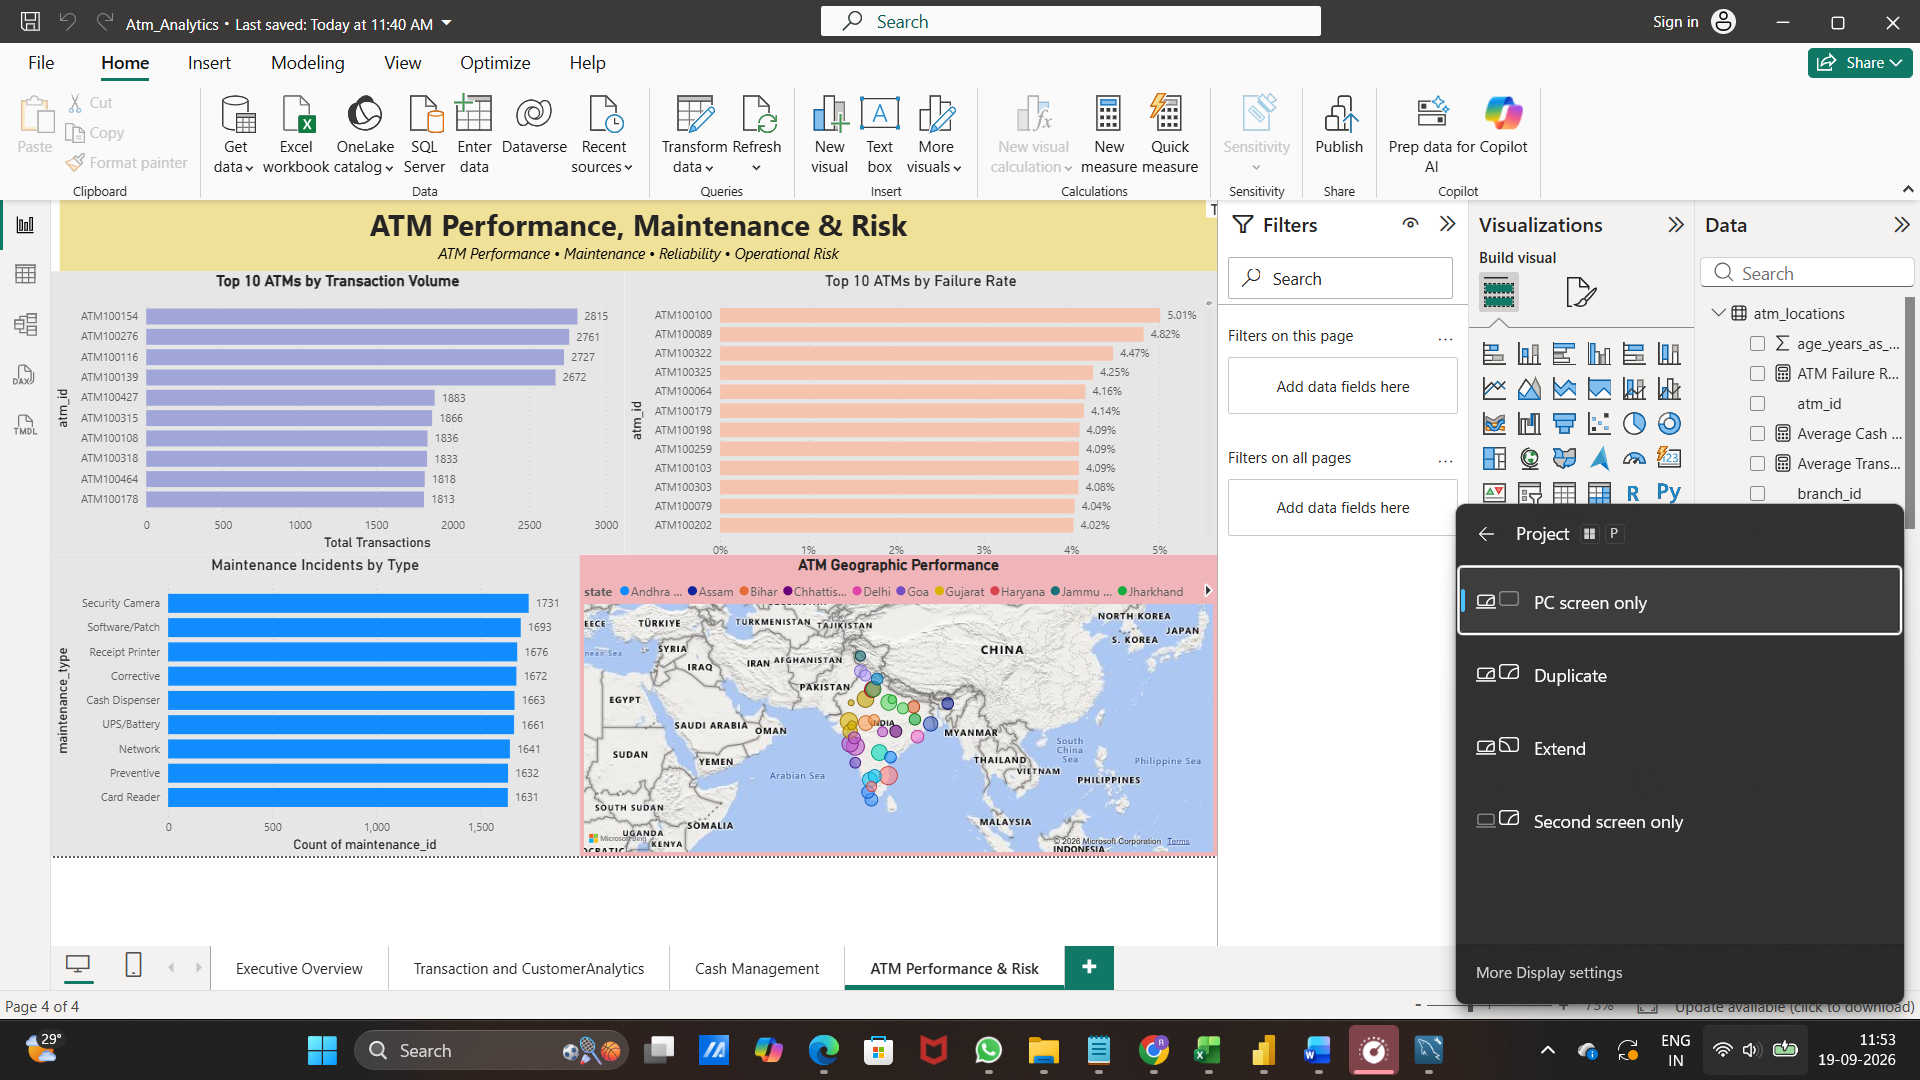

The dashboard page shown, as its layout file describes it:
{"tool":"powerbi","page":{"name":"ATM Performance & Risk","canvas":[1280,720],"ordinal":3},"visuals":[{"type":"textbox","box":[9.8,0,1270.5,78.3],"z":0},{"type":"clusteredBarChart","title":"Top 10 ATMs by Transaction Volume","fields":{"Category":["transactions.atm_id"],"Y":["atm_locations.Total Transactions"]},"box":[0,78.2,629.8,311.5],"z":1},{"type":"clusteredBarChart","title":"Top 10 ATMs by Failure Rate","fields":{"Y":["atm_locations.Failed Transaction Rate"],"Category":["transactions.atm_id"]},"box":[629.8,78.2,650.4,338.9],"z":2},{"type":"clusteredBarChart","title":"Maintenance Incidents by Type","fields":{"Category":["maintenance_records.maintenance_type"],"Y":["CountNonNull(maintenance_records.maintenance_id)"]},"box":[0,389.7,580.4,330.7],"z":3},{"type":"clusteredBarChart","fields":{"Category":["atm_locations.state"],"Y":["atm_locations.Total Transactions"]},"box":[1267.9,0,12.3,19.2],"z":4},{"type":"map","title":"ATM Geographic Performance","fields":{"Category":["atm_locations.city"],"Size":["atm_locations.Total Transactions"],"Series":["atm_locations.state"]},"box":[580.4,389.7,699.8,330.7],"z":5}]}

Visuals, with their boxes on the page's 1280x720 design canvas (x1, y1, x2, y2). These are canvas units, not pixel positions in the 1920x1080 screenshot, which may show the page scaled, cropped or inside an application window:
textbox: 10,0,1280,78
"Top 10 ATMs by Transaction Volume" clusteredBarChart: 0,78,630,390
"Top 10 ATMs by Failure Rate" clusteredBarChart: 630,78,1280,417
"Maintenance Incidents by Type" clusteredBarChart: 0,390,580,720
clusteredBarChart - atm_locations.state x atm_locations.Total Transactions: 1268,0,1280,19
"ATM Geographic Performance" map: 580,390,1280,720
